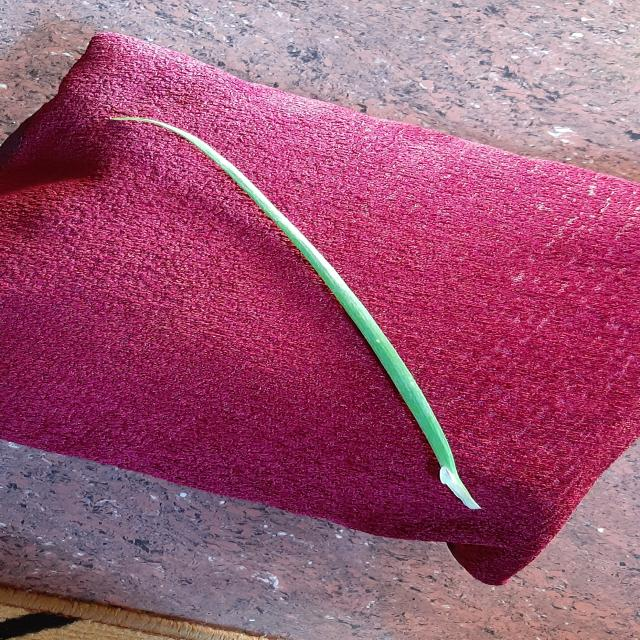onion: (111, 116, 480, 509)
